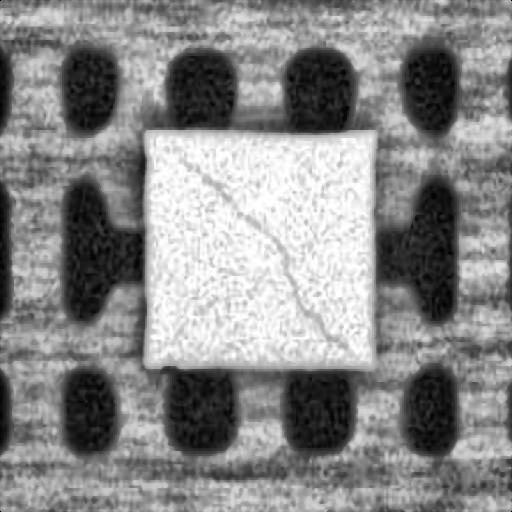DIE_CRACK: (174, 154, 347, 353)
